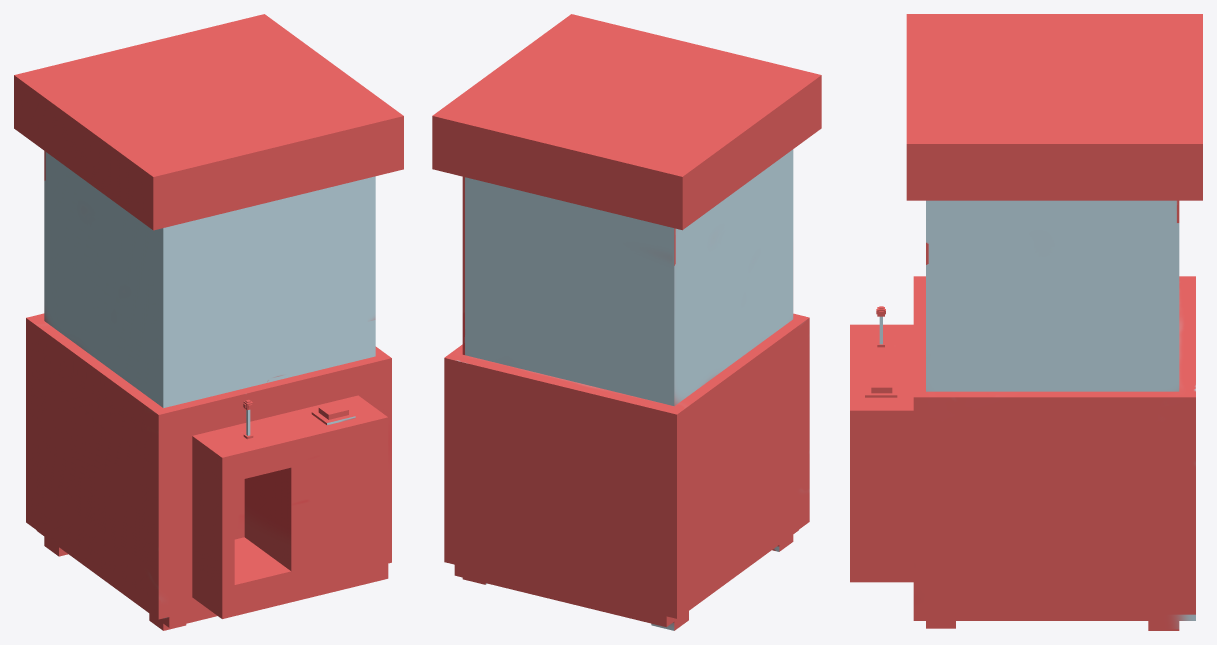
Rendered from PlinkoMachine_2.fbx.
3 renders of one model, left to right at view 1: azimuth 30°, elevation 25°; view 2: azimuth 150°, elevation 25°; view 3: azimuth 270°, elevation 25°, orthographic. The views are drawn at different scales.
Visible parts, largest first — view 1: Cube; view 2: Cube; view 3: Cube.
Part boxes in pixels (x1=…): Cube: x1=14, y1=14, x2=403, y2=630; Cube: x1=432, y1=14, x2=821, y2=630; Cube: x1=850, y1=14, x2=1202, y2=630.
Size of the model in its own units: 185 by 330 by 213.
Materials: 1 (1 with a texture image).
